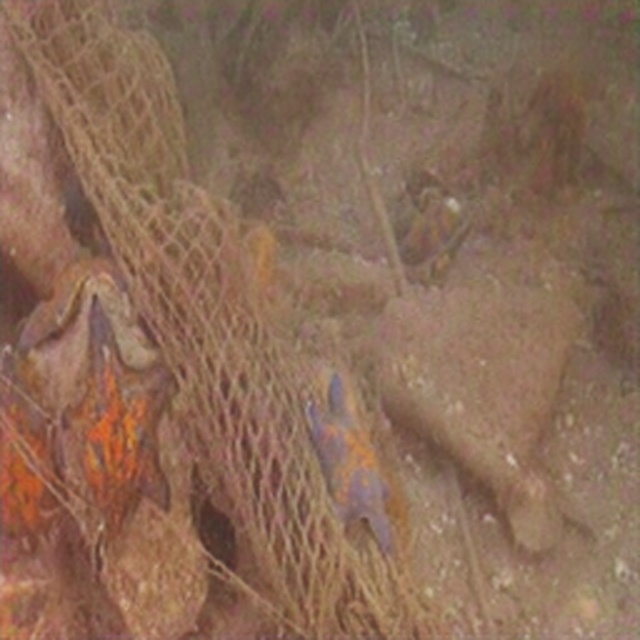mine: (0, 0, 348, 639)
